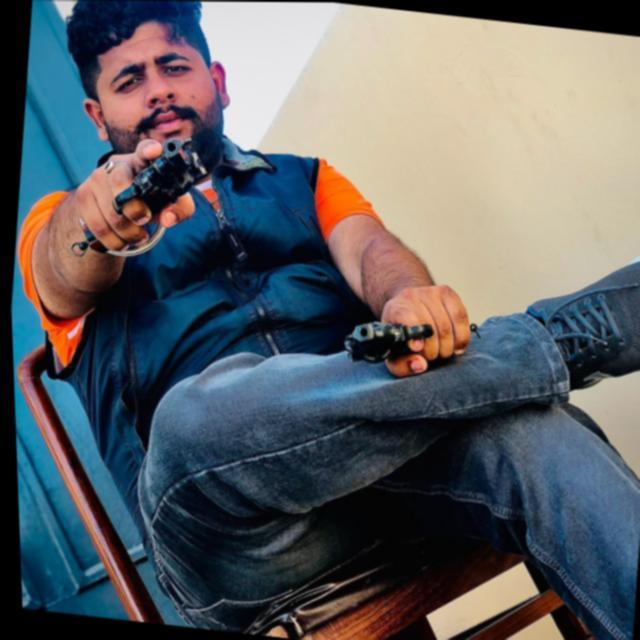weapon: (63, 122, 218, 274), (333, 300, 482, 384)
